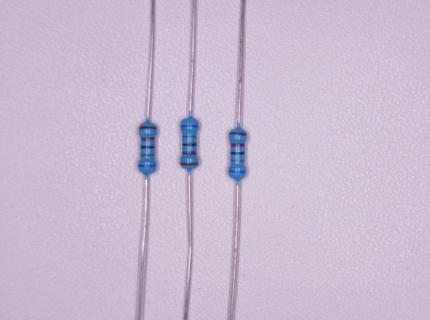Black band: (231, 151, 245, 155), (182, 143, 198, 146), (140, 146, 155, 149)
Blue band: (137, 164, 157, 168), (180, 125, 199, 128), (228, 170, 246, 173)
Brown band: (139, 126, 157, 130), (229, 132, 247, 136), (180, 163, 198, 166)
Grey band: (140, 153, 155, 157), (182, 135, 197, 138), (230, 159, 245, 162)
Red band: (140, 137, 155, 141), (182, 151, 196, 155), (231, 143, 245, 147)
